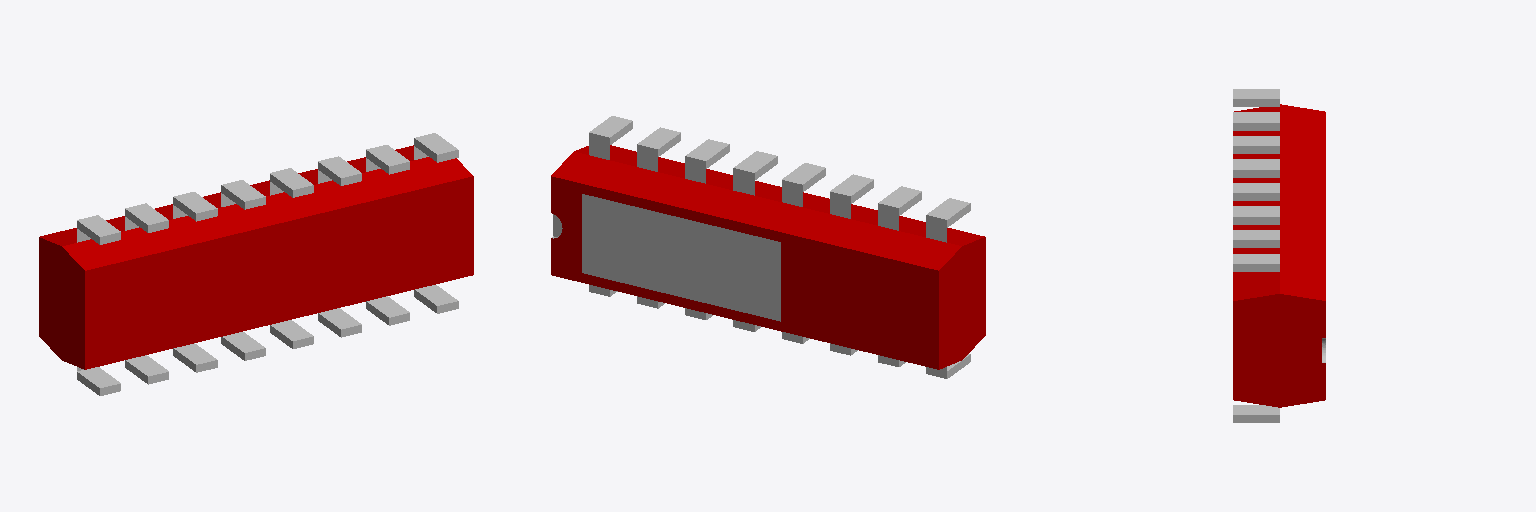
File: DIL-16.obj
3 renders of one model, left to right at view 1: azimuth 30°, elevation 25°; view 2: azimuth 150°, elevation 25°; view 3: azimuth 270°, elevation 25°, orthographic.
Visible parts, largest first — view 1: ShapeIndexedFaceSet.002_ShapeIndexedFaceSet.003, ShapeIndexedFaceSet.001_ShapeIndexedFaceSet.002, ShapeIndexedFaceSet.015_ShapeIndexedFaceSet.016, ShapeIndexedFaceSet.017_ShapeIndexedFaceSet.018, ShapeIndexedFaceSet.006_ShapeIndexedFaceSet.007, ShapeIndexedFaceSet.021_ShapeIndexedFaceSet.022, ShapeIndexedFaceSet.013_ShapeIndexedFaceSet.014, ShapeIndexedFaceSet.011_ShapeIndexedFaceSet.012, ShapeIndexedFaceSet.009_ShapeIndexedFaceSet.010, ShapeIndexedFaceSet.019_ShapeIndexedFaceSet.020, ShapeIndexedFaceSet.026_ShapeIndexedFaceSet.027, ShapeIndexedFaceSet.037_ShapeIndexedFaceSet.038 (+6 smaller); view 2: ShapeIndexedFaceSet.001_ShapeIndexedFaceSet.002, ShapeIndexedFaceSet_ShapeIndexedFaceSet.001, ShapeIndexedFaceSet.002_ShapeIndexedFaceSet.003, ShapeIndexedFaceSet.013_ShapeIndexedFaceSet.014, ShapeIndexedFaceSet.011_ShapeIndexedFaceSet.012, ShapeIndexedFaceSet.021_ShapeIndexedFaceSet.022, ShapeIndexedFaceSet.015_ShapeIndexedFaceSet.016, ShapeIndexedFaceSet.017_ShapeIndexedFaceSet.018, ShapeIndexedFaceSet.009_ShapeIndexedFaceSet.010, ShapeIndexedFaceSet.019_ShapeIndexedFaceSet.020, ShapeIndexedFaceSet.006_ShapeIndexedFaceSet.007; view 3: ShapeIndexedFaceSet.001_ShapeIndexedFaceSet.002, ShapeIndexedFaceSet.002_ShapeIndexedFaceSet.003, ShapeIndexedFaceSet.019_ShapeIndexedFaceSet.020, ShapeIndexedFaceSet.015_ShapeIndexedFaceSet.016, ShapeIndexedFaceSet.011_ShapeIndexedFaceSet.012, ShapeIndexedFaceSet.021_ShapeIndexedFaceSet.022, ShapeIndexedFaceSet.017_ShapeIndexedFaceSet.018, ShapeIndexedFaceSet.013_ShapeIndexedFaceSet.014, ShapeIndexedFaceSet.009_ShapeIndexedFaceSet.010, ShapeIndexedFaceSet.006_ShapeIndexedFaceSet.007, ShapeIndexedFaceSet.037_ShapeIndexedFaceSet.038.
Part boxes in pixels (left/top/right/bottom): ShapeIndexedFaceSet.002_ShapeIndexedFaceSet.003: left=62, top=157, right=473, bottom=369; ShapeIndexedFaceSet.001_ShapeIndexedFaceSet.002: left=39, top=145, right=413, bottom=359; ShapeIndexedFaceSet.015_ShapeIndexedFaceSet.016: left=221, top=180, right=265, bottom=209; ShapeIndexedFaceSet.017_ShapeIndexedFaceSet.018: left=173, top=192, right=217, bottom=221; ShapeIndexedFaceSet.006_ShapeIndexedFaceSet.007: left=414, top=133, right=458, bottom=162; ShapeIndexedFaceSet.021_ShapeIndexedFaceSet.022: left=77, top=215, right=120, bottom=244; ShapeIndexedFaceSet.013_ShapeIndexedFaceSet.014: left=270, top=168, right=313, bottom=197; ShapeIndexedFaceSet.011_ShapeIndexedFaceSet.012: left=318, top=156, right=361, bottom=185; ShapeIndexedFaceSet.009_ShapeIndexedFaceSet.010: left=366, top=145, right=409, bottom=174; ShapeIndexedFaceSet.019_ShapeIndexedFaceSet.020: left=125, top=203, right=168, bottom=232; ShapeIndexedFaceSet.026_ShapeIndexedFaceSet.027: left=173, top=343, right=217, bottom=372; ShapeIndexedFaceSet.037_ShapeIndexedFaceSet.038: left=414, top=285, right=458, bottom=313; ShapeIndexedFaceSet.001_ShapeIndexedFaceSet.002: left=551, top=152, right=961, bottom=369; ShapeIndexedFaceSet_ShapeIndexedFaceSet.001: left=582, top=194, right=780, bottom=321; ShapeIndexedFaceSet.002_ShapeIndexedFaceSet.003: left=574, top=145, right=985, bottom=359; ShapeIndexedFaceSet.013_ShapeIndexedFaceSet.014: left=733, top=151, right=777, bottom=180; ShapeIndexedFaceSet.011_ShapeIndexedFaceSet.012: left=685, top=139, right=729, bottom=168; ShapeIndexedFaceSet.021_ShapeIndexedFaceSet.022: left=926, top=198, right=970, bottom=227; ShapeIndexedFaceSet.015_ShapeIndexedFaceSet.016: left=782, top=163, right=825, bottom=192; ShapeIndexedFaceSet.017_ShapeIndexedFaceSet.018: left=830, top=174, right=873, bottom=203; ShapeIndexedFaceSet.009_ShapeIndexedFaceSet.010: left=637, top=127, right=680, bottom=156; ShapeIndexedFaceSet.019_ShapeIndexedFaceSet.020: left=878, top=186, right=921, bottom=215; ShapeIndexedFaceSet.006_ShapeIndexedFaceSet.007: left=589, top=116, right=632, bottom=145; ShapeIndexedFaceSet.001_ShapeIndexedFaceSet.002: left=1280, top=104, right=1325, bottom=407; ShapeIndexedFaceSet.002_ShapeIndexedFaceSet.003: left=1233, top=107, right=1279, bottom=407; ShapeIndexedFaceSet.019_ShapeIndexedFaceSet.020: left=1233, top=112, right=1279, bottom=130; ShapeIndexedFaceSet.015_ShapeIndexedFaceSet.016: left=1233, top=159, right=1279, bottom=177; ShapeIndexedFaceSet.011_ShapeIndexedFaceSet.012: left=1233, top=206, right=1279, bottom=224; ShapeIndexedFaceSet.021_ShapeIndexedFaceSet.022: left=1233, top=89, right=1279, bottom=106; ShapeIndexedFaceSet.017_ShapeIndexedFaceSet.018: left=1233, top=136, right=1279, bottom=153; ShapeIndexedFaceSet.013_ShapeIndexedFaceSet.014: left=1233, top=183, right=1279, bottom=200; ShapeIndexedFaceSet.009_ShapeIndexedFaceSet.010: left=1233, top=230, right=1279, bottom=247; ShapeIndexedFaceSet.006_ShapeIndexedFaceSet.007: left=1233, top=254, right=1279, bottom=271; ShapeIndexedFaceSet.037_ShapeIndexedFaceSet.038: left=1233, top=405, right=1279, bottom=422.
Bounding box in the file's own units: 20.47 × 8.02 × 4.26.